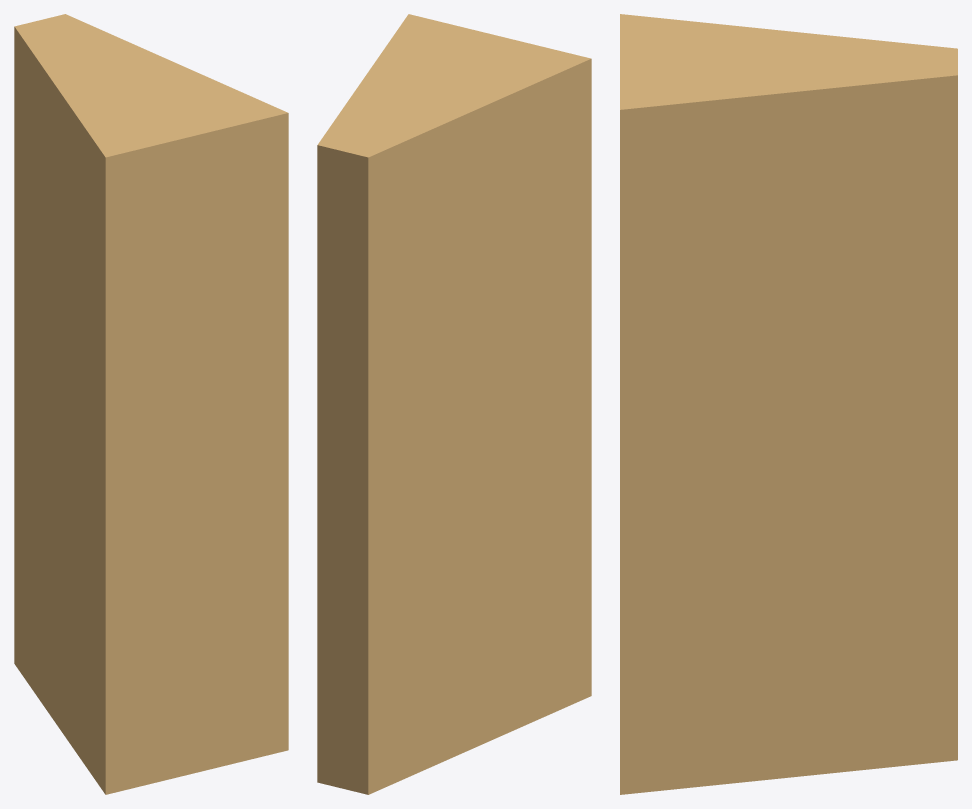
The model's file is wood.fbx.
3 renders of one model, left to right at view 1: azimuth 30°, elevation 25°; view 2: azimuth 150°, elevation 25°; view 3: azimuth 270°, elevation 25°, orthographic. The views are drawn at different scales.
Parts seen in each view (by area): view 1: Cube; view 2: Cube; view 3: Cube.
Boxes of the visible parts, bbox=[...] form: Cube: bbox=[14, 14, 288, 794]; Cube: bbox=[317, 14, 591, 794]; Cube: bbox=[620, 14, 957, 794].
Bounding box in the file's own units: 200 × 666 × 298.
